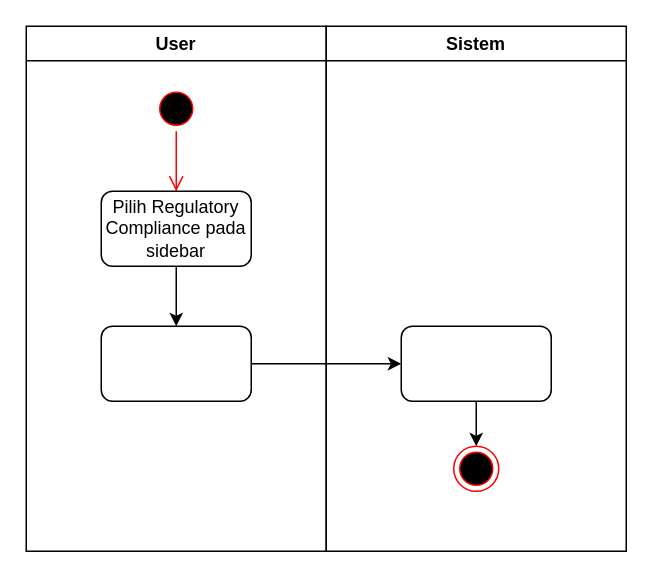
Some shapes in this 653 by 578 pixel diagram are drawn without their labels. Here are the shapes that lost their labels. From the top down, the centre of each, then its label:
pixel 175 363: Pilih PLO
pixel 475 363: Menampilkan halaman PLO
